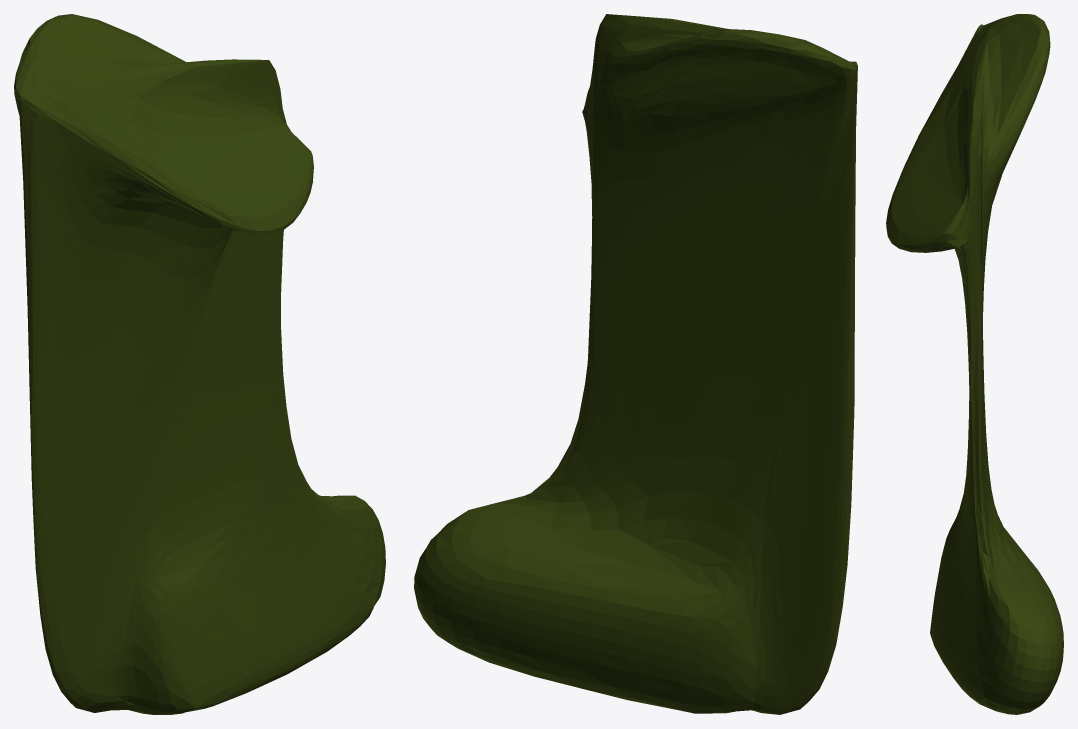
The picture shows the model from 3 angles, left to right: view 1: azimuth 30°, elevation 25°; view 2: azimuth 150°, elevation 25°; view 3: azimuth 270°, elevation 25°; orthographic projection. The views are drawn at different scales.
Parts seen in each view (by area): view 1: 676_Cube.2715; view 2: 676_Cube.2715; view 3: 676_Cube.2715.
Boxes of the visible parts, box(x1,y1,x2,y2) form: 676_Cube.2715: box(14, 14, 385, 714); 676_Cube.2715: box(414, 14, 857, 714); 676_Cube.2715: box(886, 14, 1063, 714).
Bounding box in the file's own units: 7.71 × 12.91 × 3.5.
